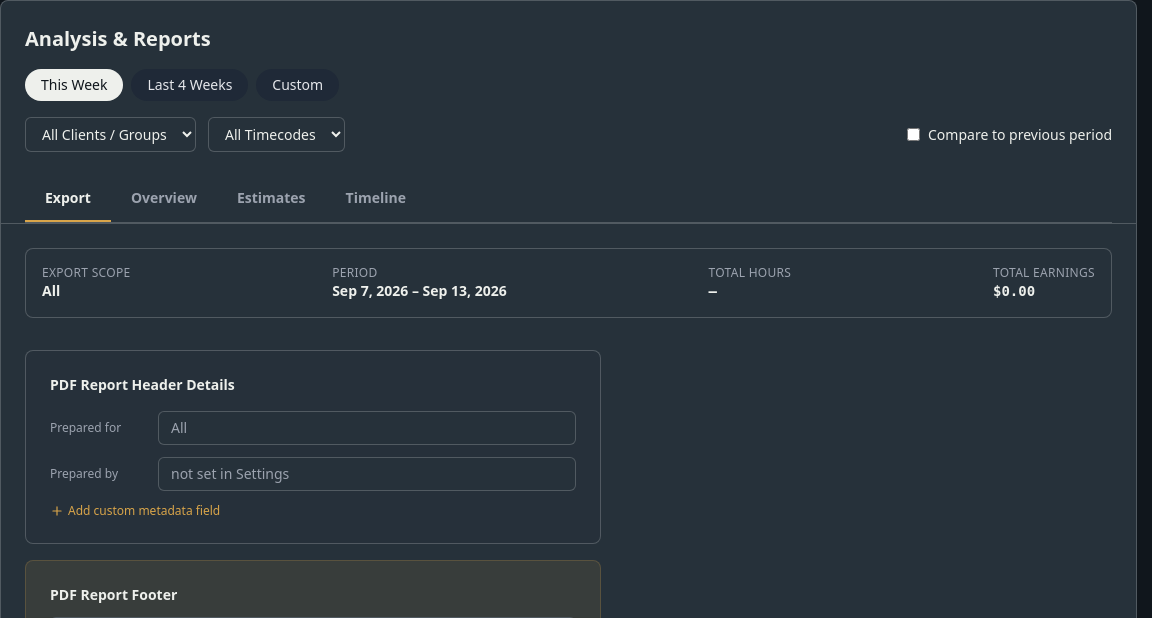
Test: the single-day timeline bar › names what it is showing, and what the day bills
Click the button "Custom". click: (298, 85)
box: [256,69,339,101]
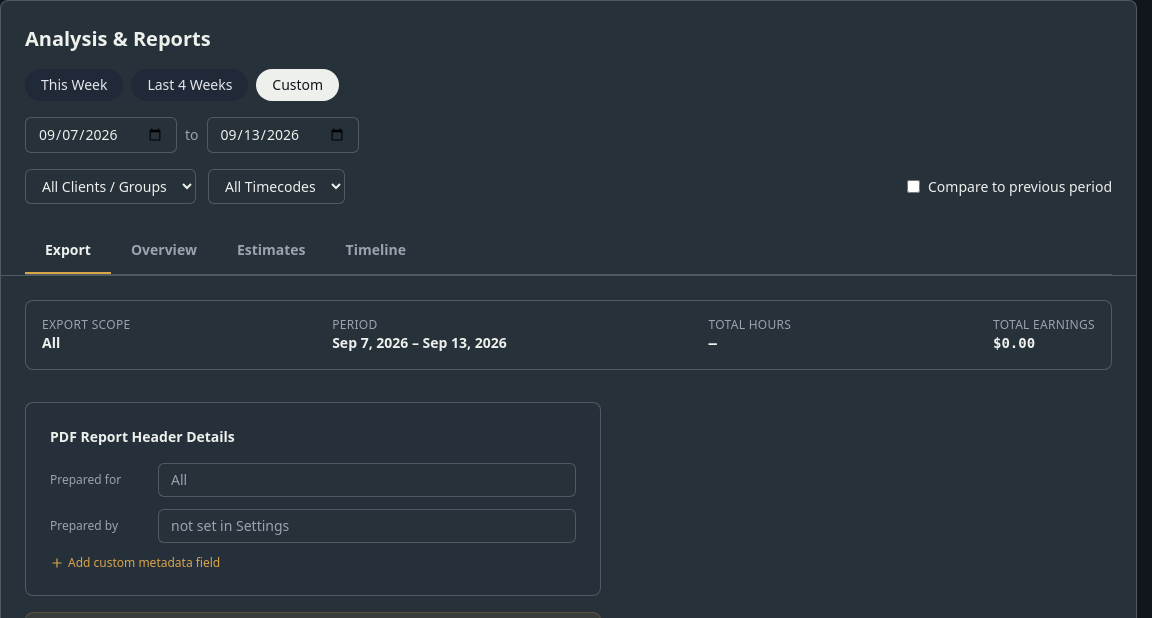
Type "2026-03-10" into the 1st date field. click: (101, 135)
box: [25,117,177,153]
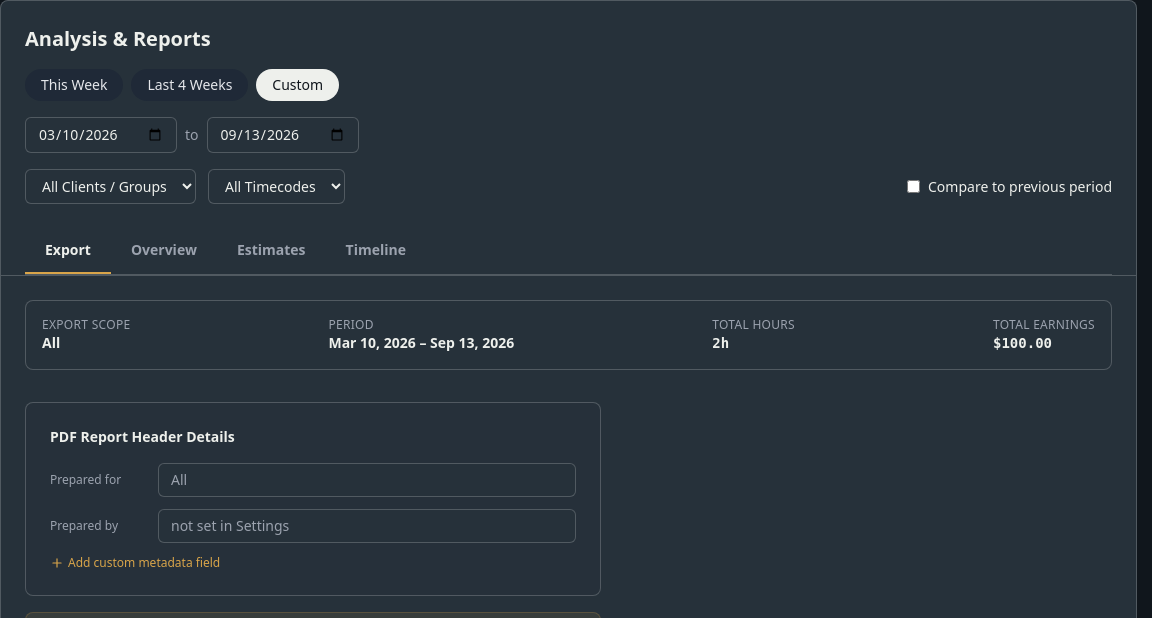
Type "2026-03-10" into the 2nd date field. click: (282, 135)
box: [206,117,358,153]
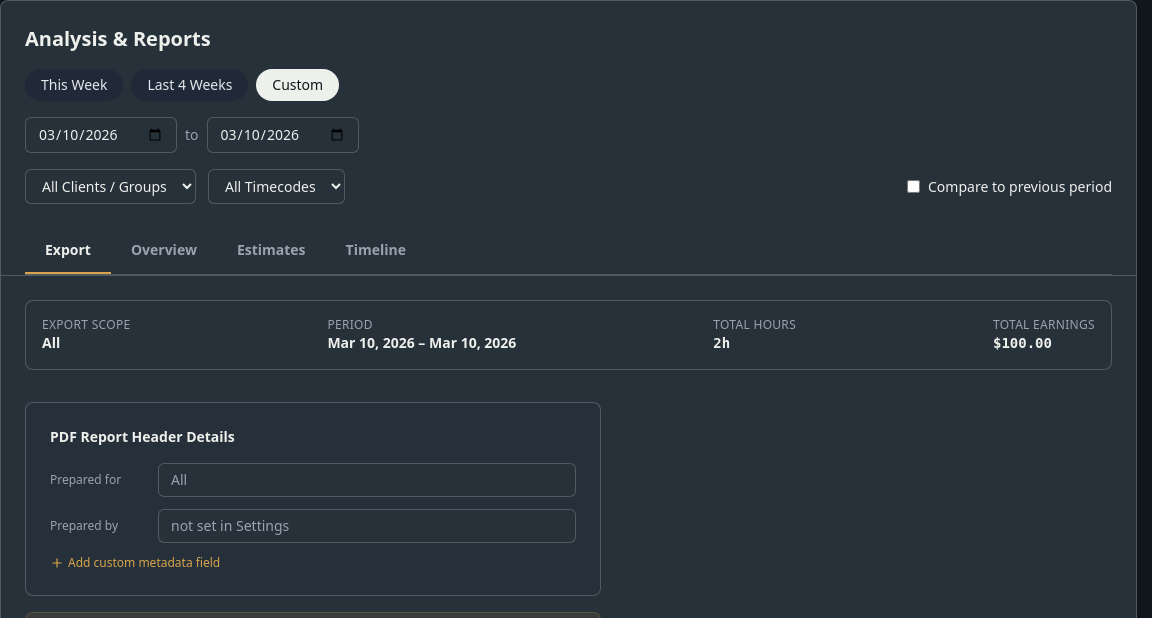
Click the tab "Timeline". click: (376, 251)
box: [326,228,426,274]
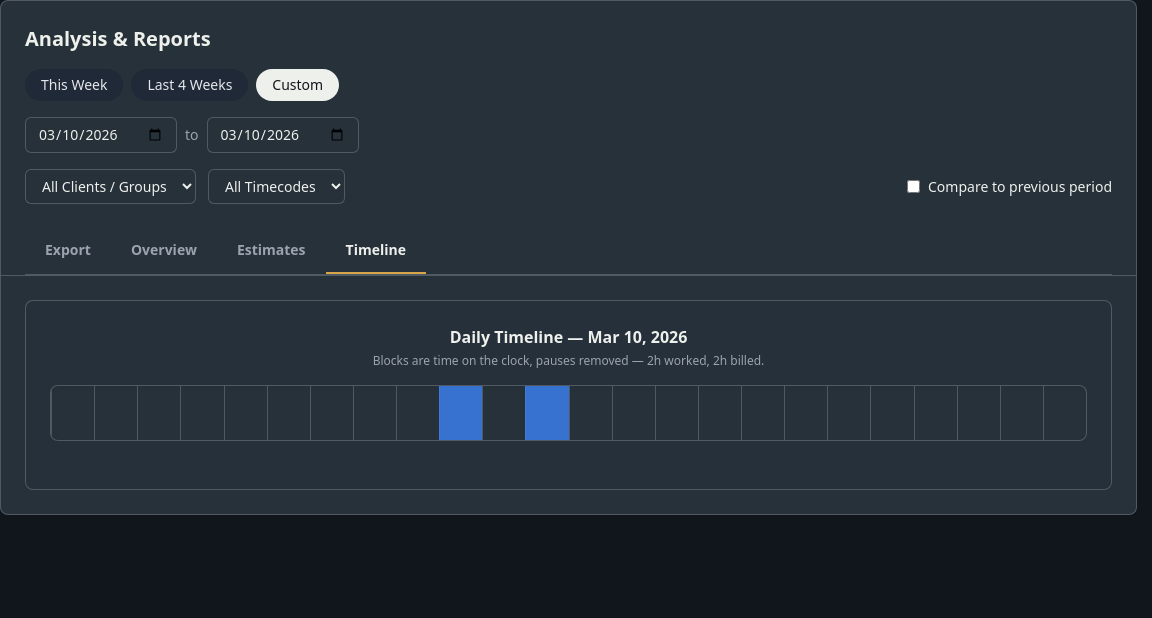
expect the text "2h billed" is shown: met, box [373,352,764,369]
